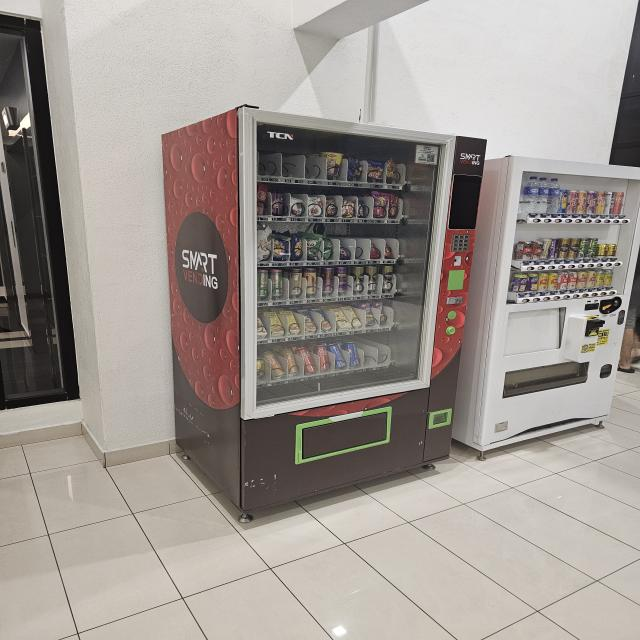obstacle: (158, 103, 488, 525), (451, 154, 639, 462), (422, 407, 455, 467), (258, 350, 287, 382)
